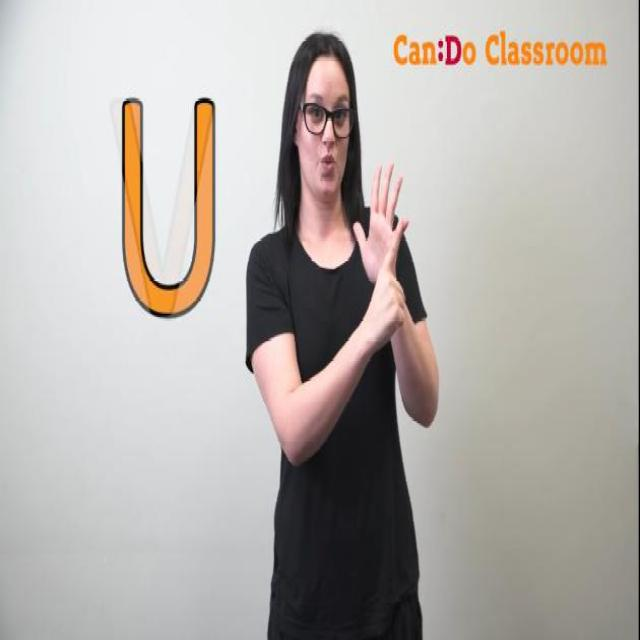U: (357, 155, 412, 344)
